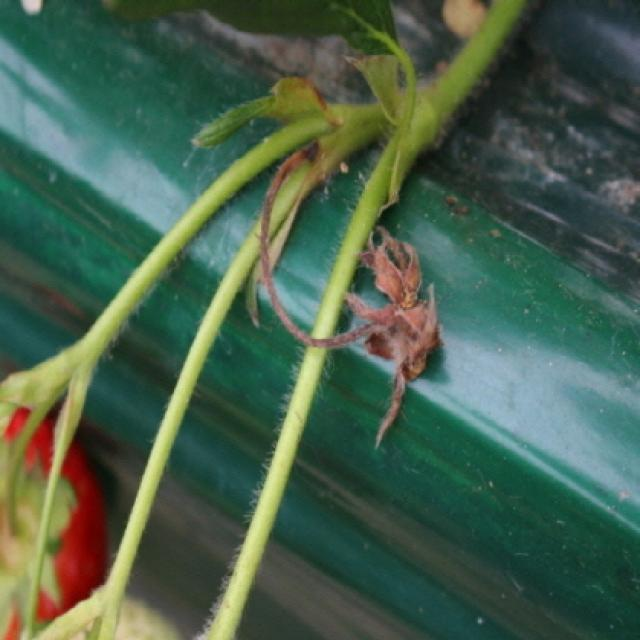Gray Mold: (312, 226, 442, 453)
